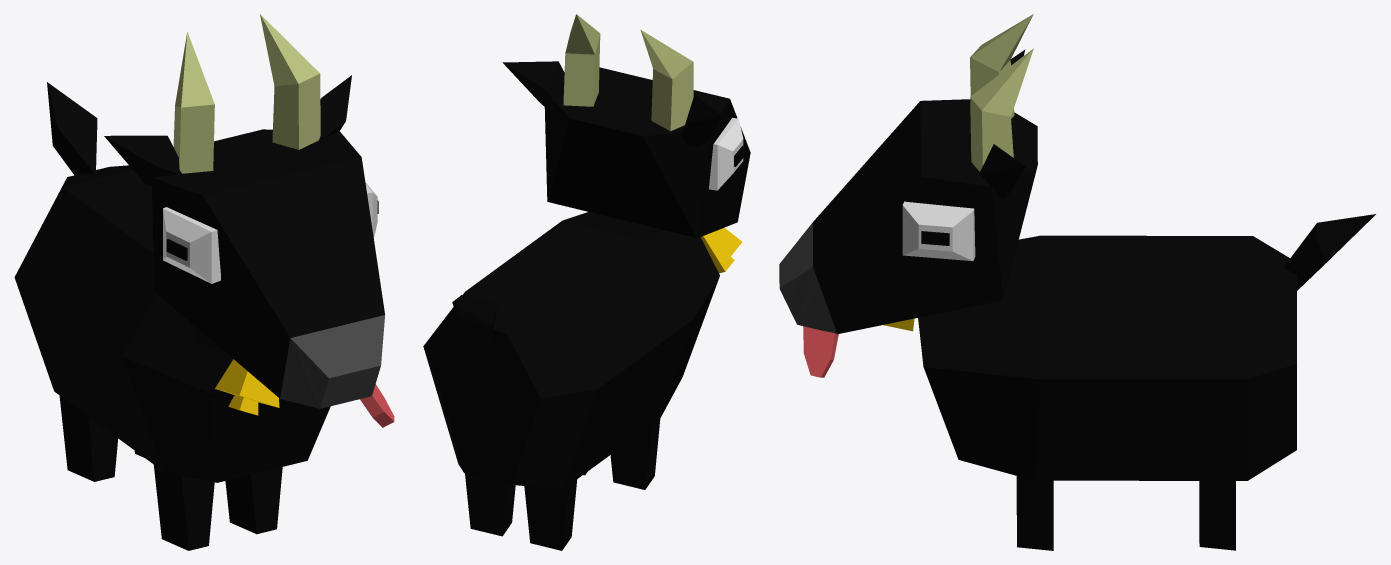
The model's file is cabra negra.fbx.
3 renders of one model, left to right at view 1: azimuth 30°, elevation 25°; view 2: azimuth 150°, elevation 25°; view 3: azimuth 270°, elevation 25°, orthographic. The views are drawn at different scales.
Visible parts, largest first — view 1: Cuerpo, Cube.002; view 2: Cuerpo, Cube.002; view 3: Cuerpo.
Part boxes in pixels (x1,y1,x2,y2): Cuerpo: (14, 14, 394, 550); Cube.002: (215, 359, 279, 415); Cuerpo: (423, 14, 750, 550); Cube.002: (701, 227, 742, 273); Cuerpo: (779, 14, 1375, 550).
Size of the model in its own units: 35.64 by 76.56 by 70.01.
